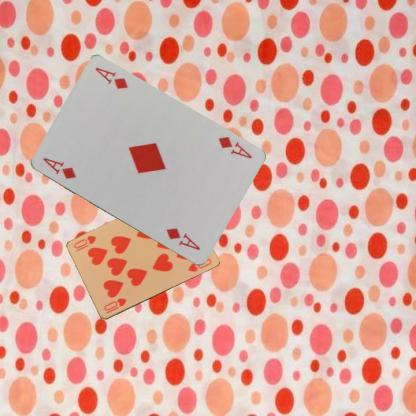10h: (101, 295, 128, 312)
Ad: (214, 134, 253, 160), (40, 155, 77, 181)
